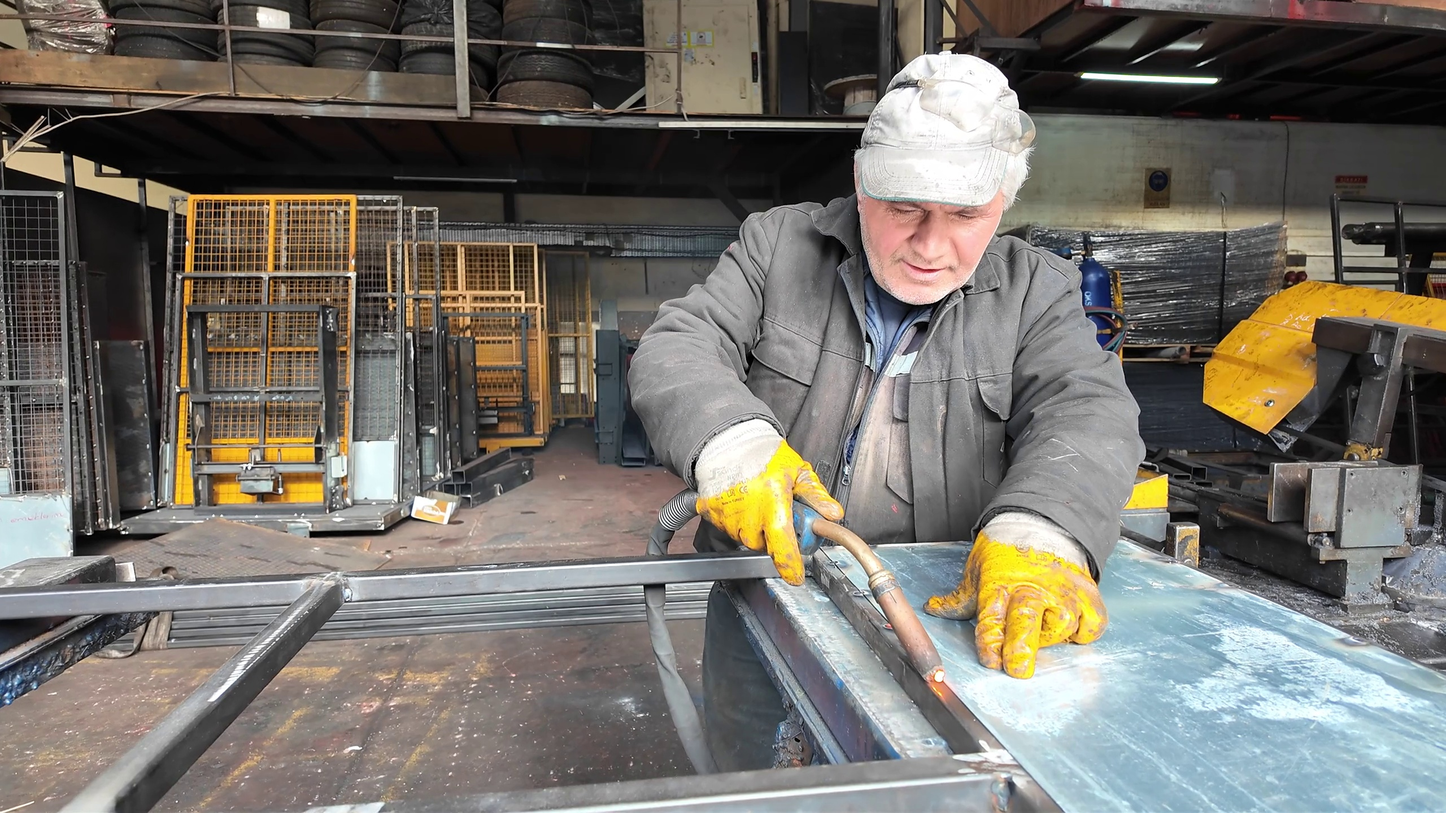person: (622, 51, 1151, 780)
